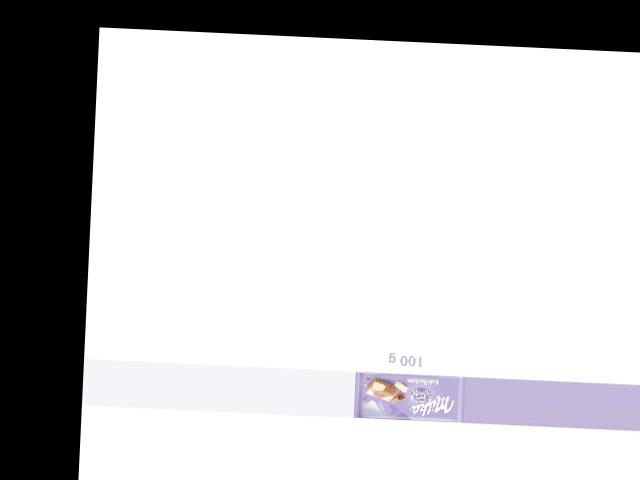chocolate: (352, 369, 465, 423)
